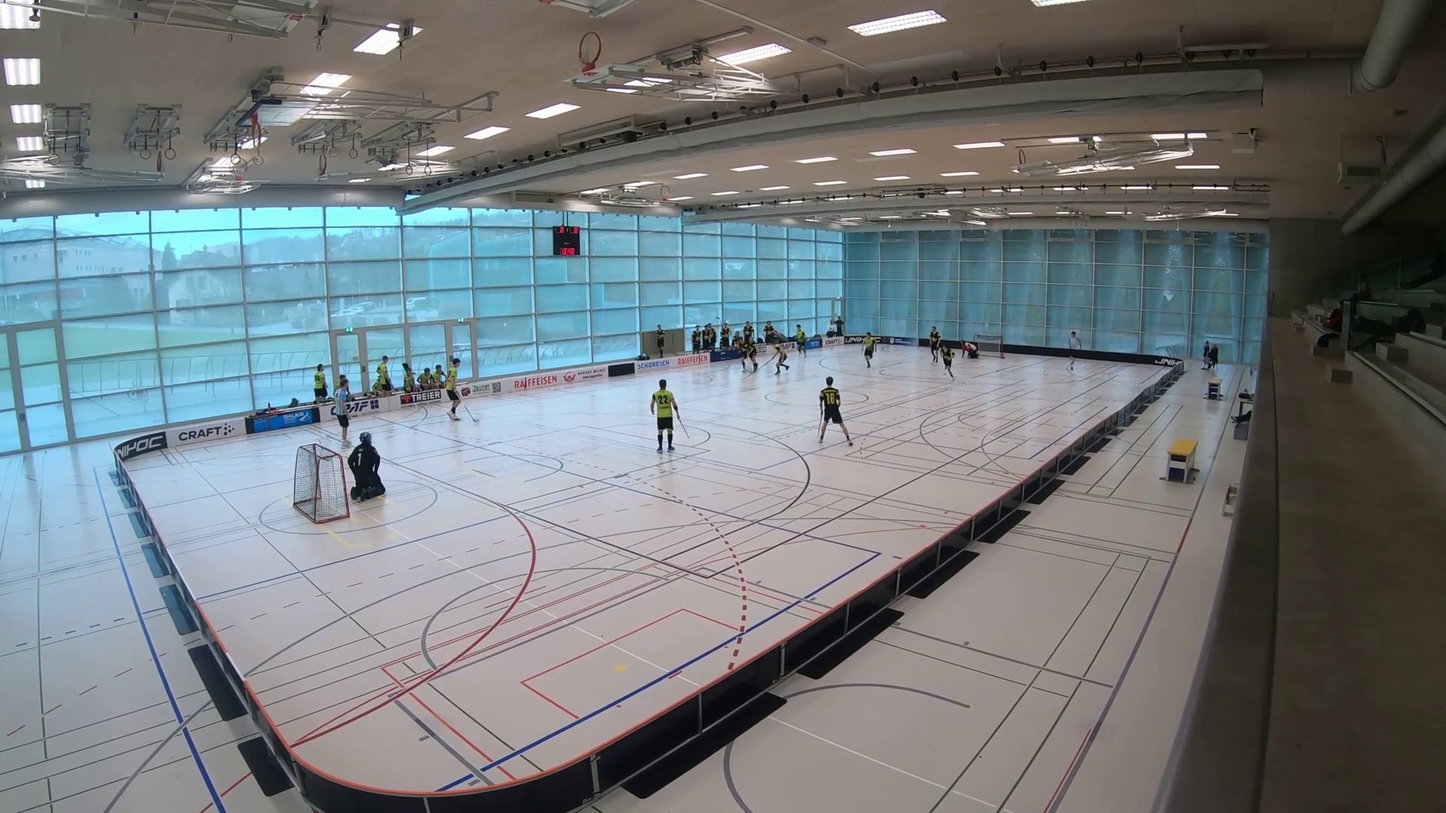Schiri: (329, 377, 356, 448), (1064, 327, 1084, 372)
goalkeeper: (348, 432, 385, 501), (961, 342, 978, 358)
player: (819, 376, 852, 445), (650, 379, 677, 452), (445, 357, 460, 420), (771, 341, 789, 374), (938, 346, 953, 378), (863, 332, 875, 367), (929, 327, 941, 362), (746, 342, 758, 373), (740, 337, 749, 372), (796, 324, 806, 355)
